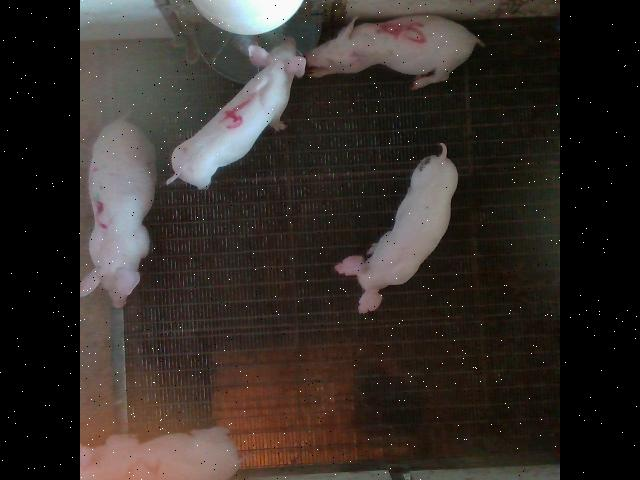pig-2: (81, 426, 241, 480)
pig-3: (81, 116, 155, 306)
pig-4: (167, 39, 306, 189)
pig-5: (306, 15, 484, 89)
